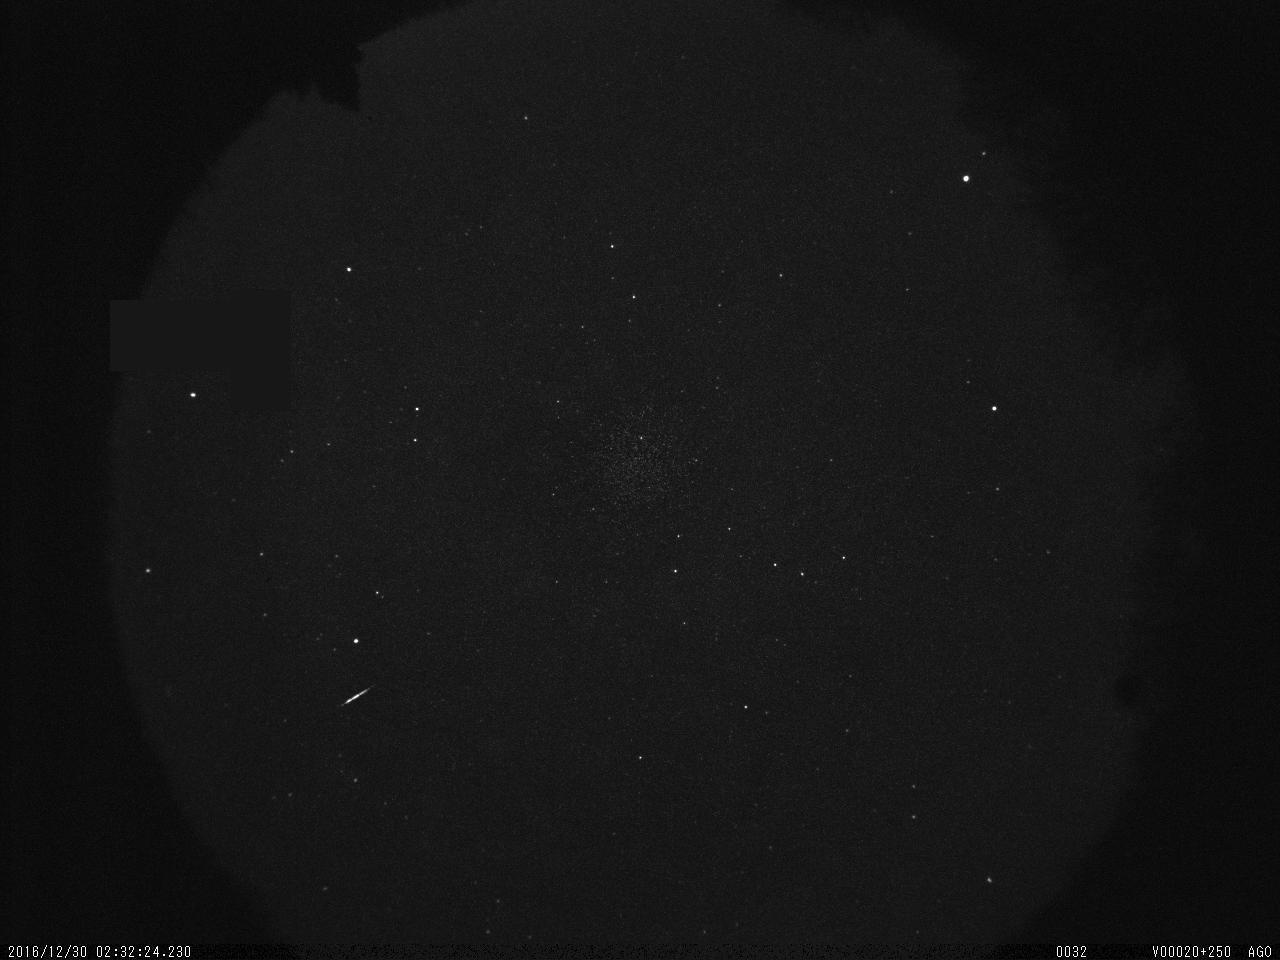Meteor: (341, 683, 374, 706)
